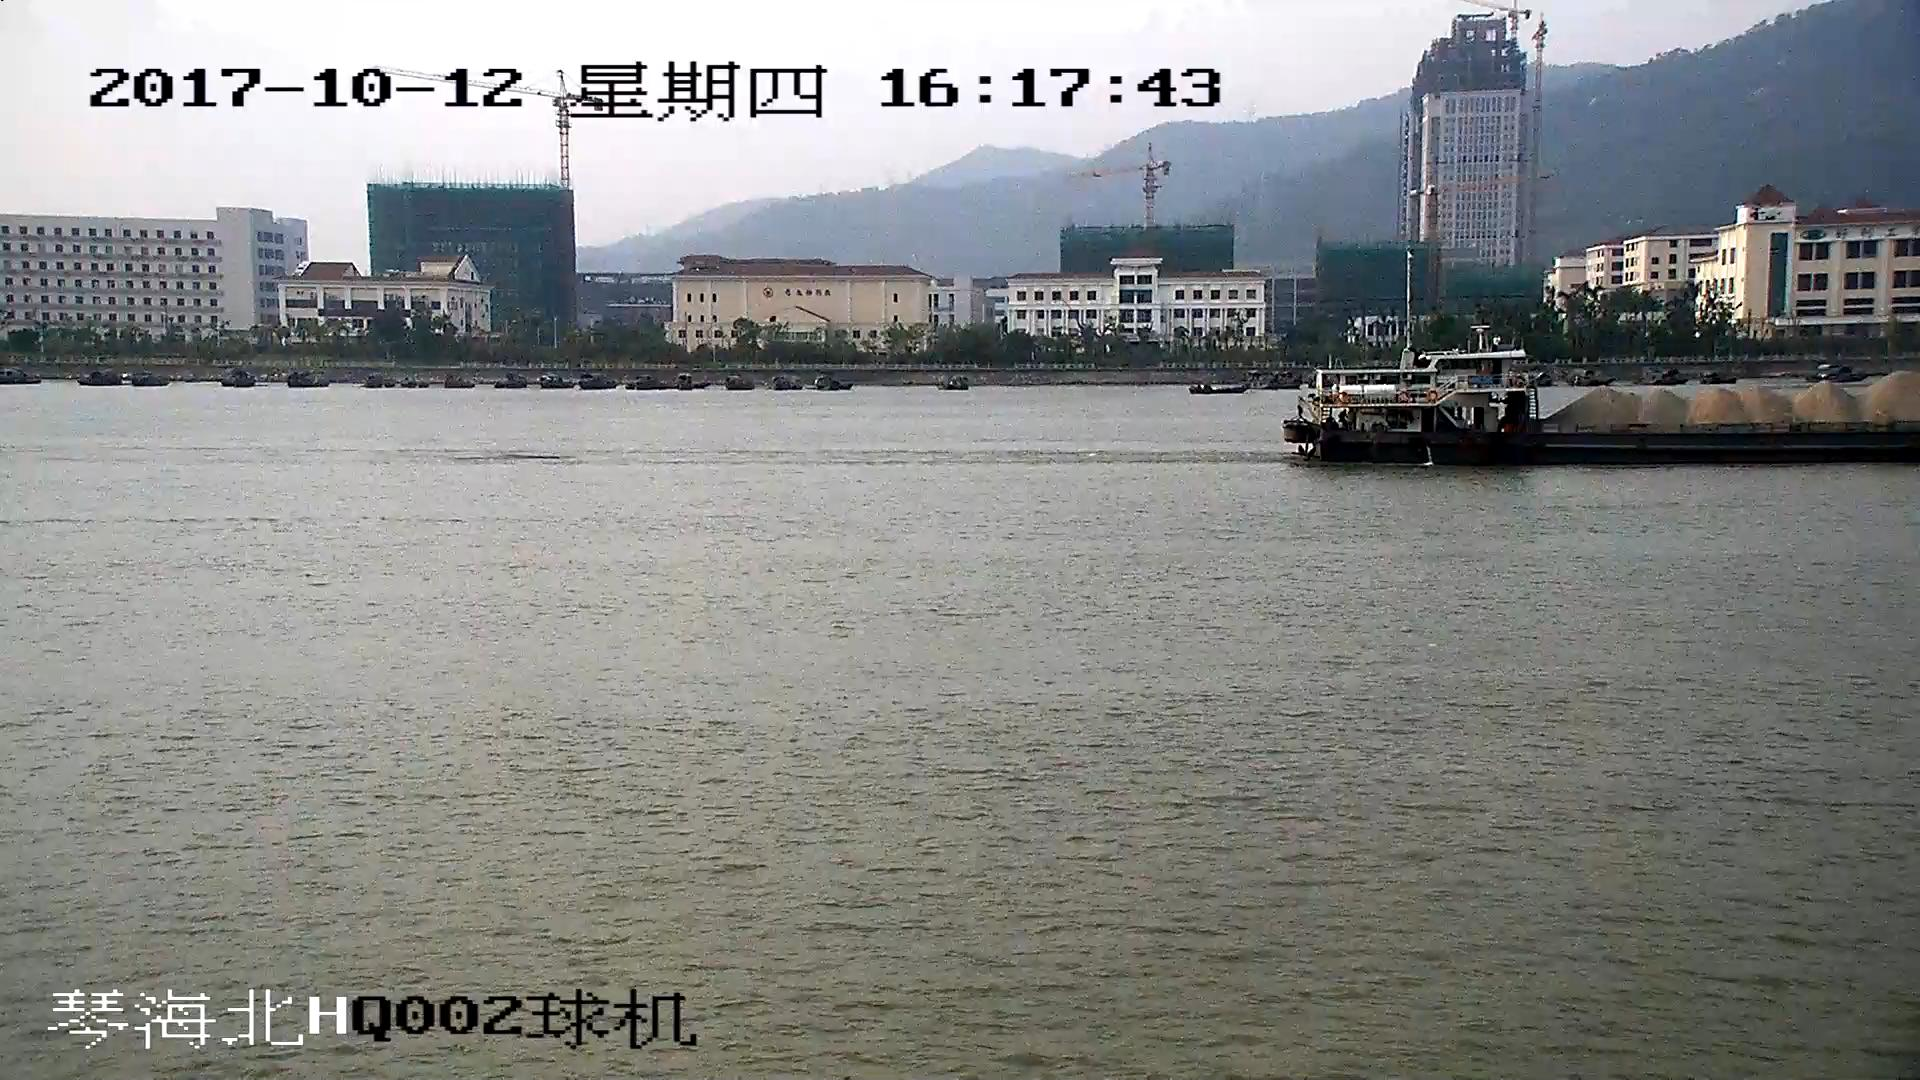ore carrier: (1294, 355, 1920, 467)
